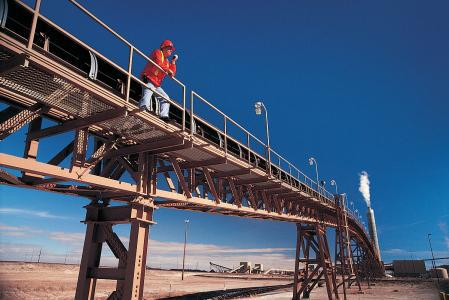helmet: (160, 35, 176, 58)
person: (138, 35, 182, 120)
